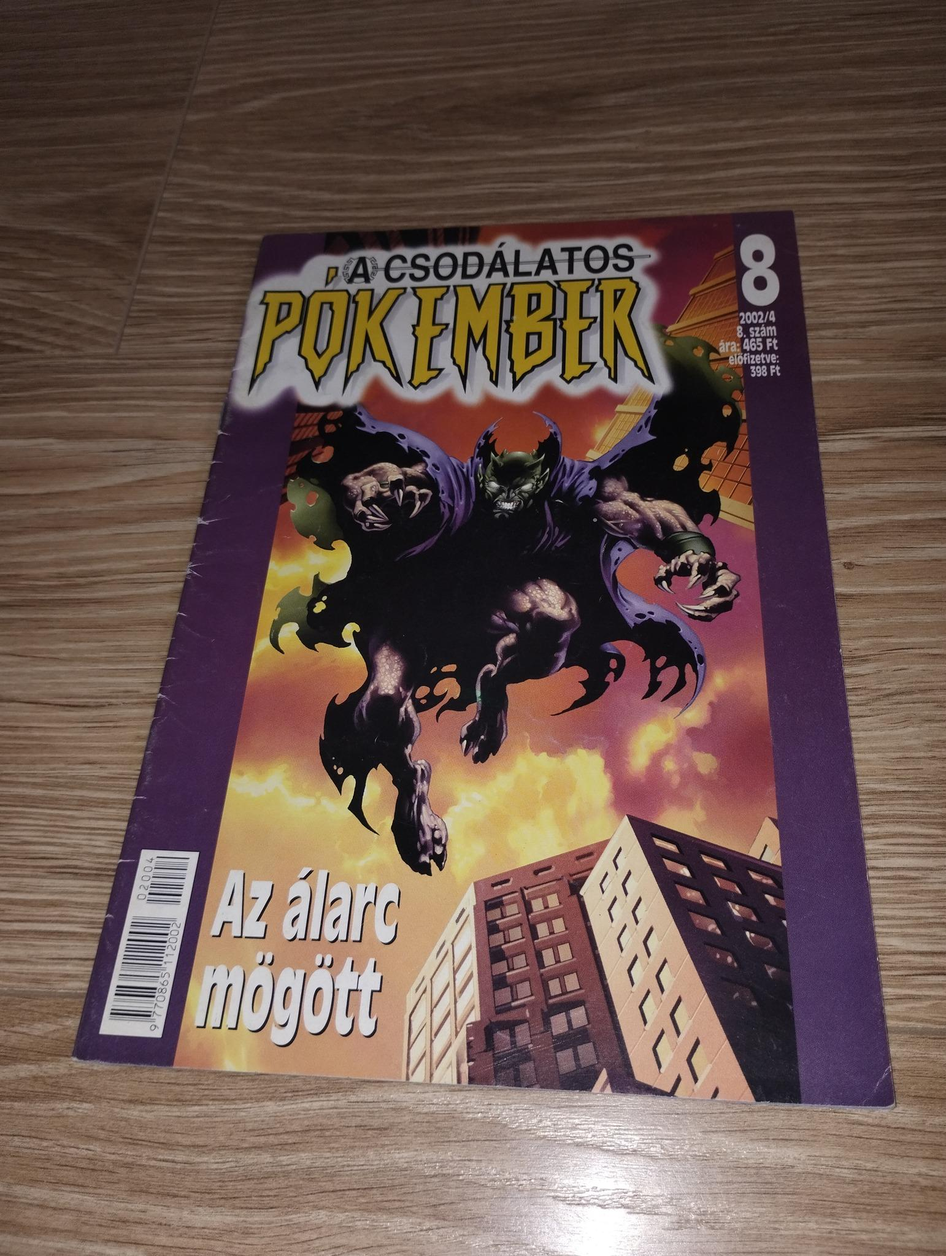comic: (75, 191, 920, 1105)
